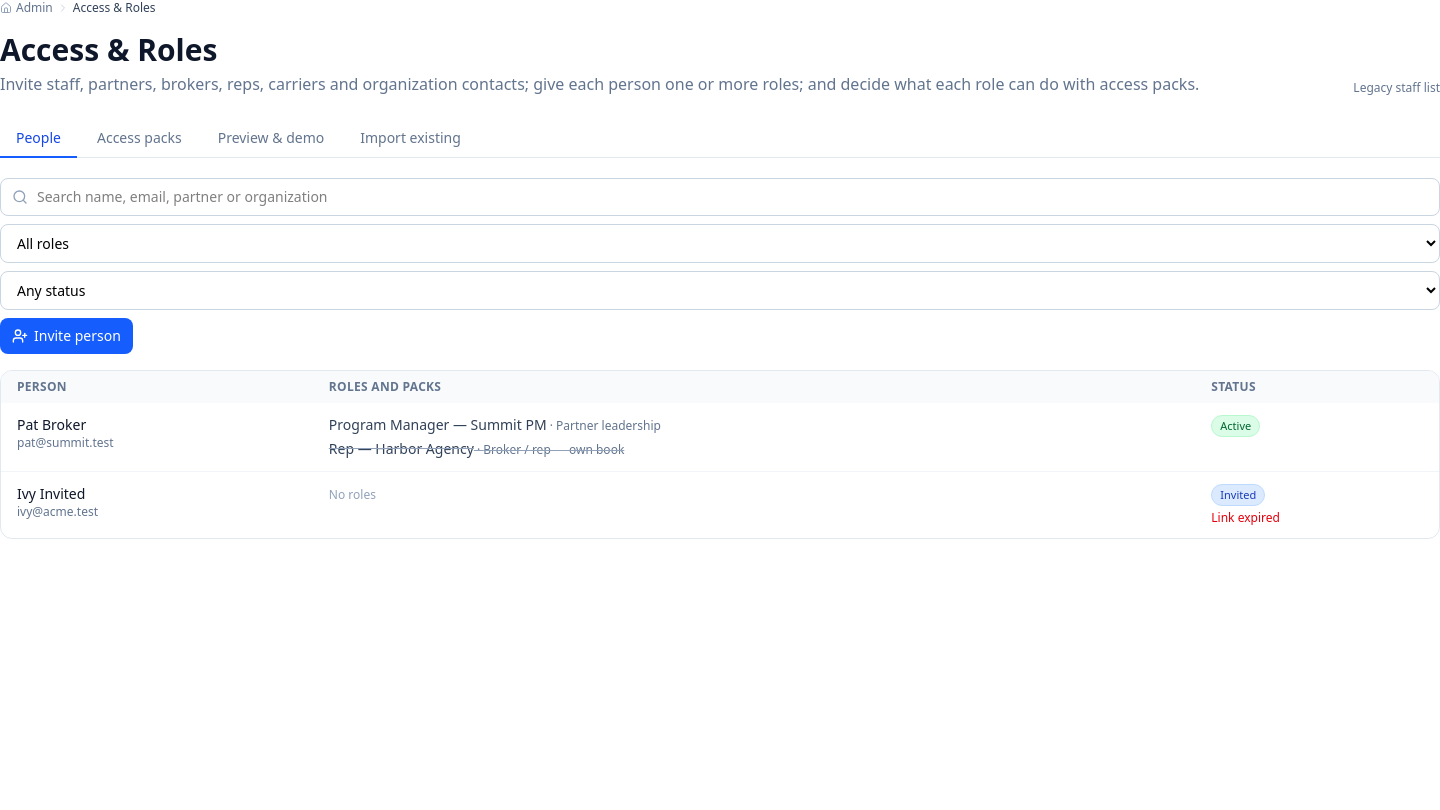
Test: Access & Roles › the invite form starts empty and adds roles
Step 1. Click the button "Invite person" → click(66, 336), box [0, 318, 133, 354]
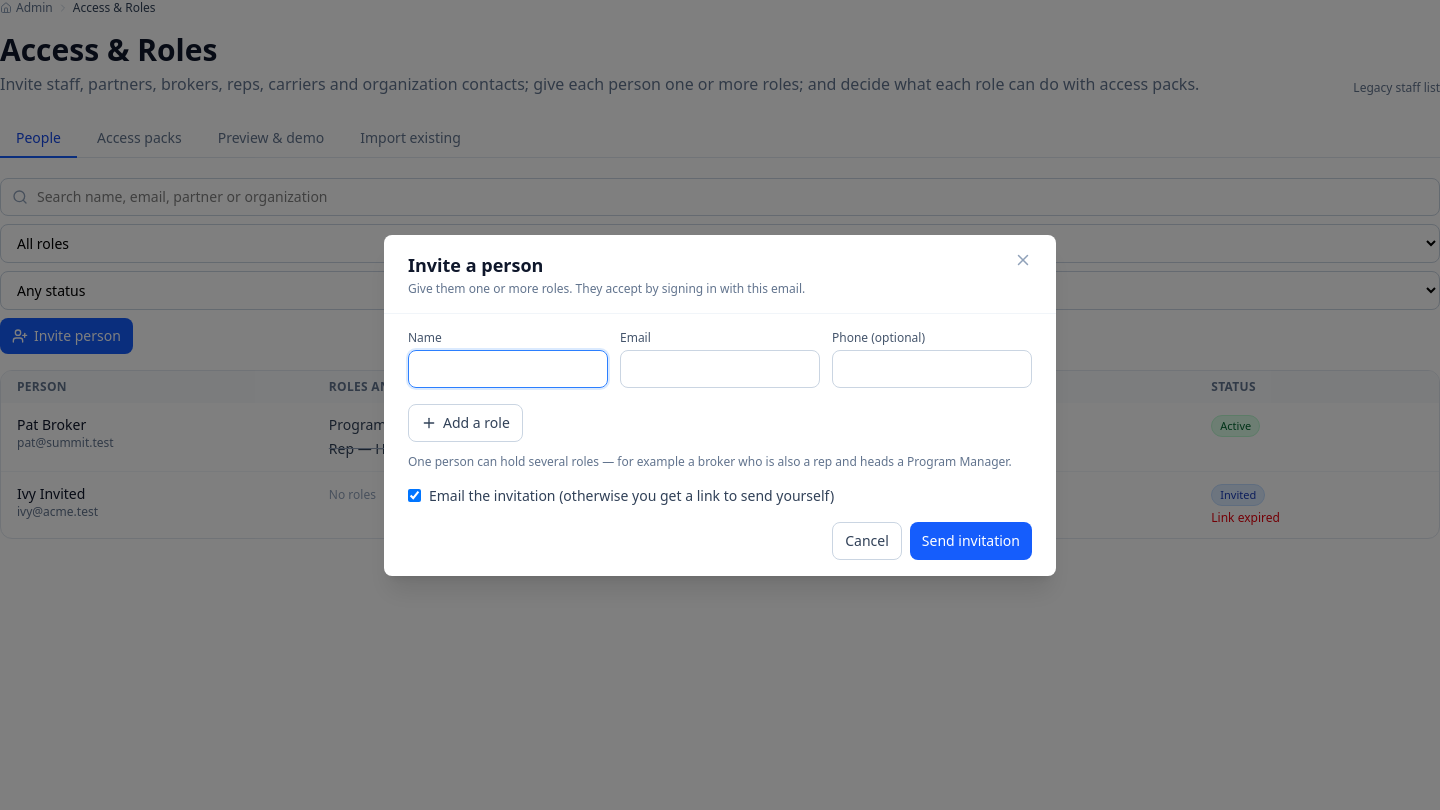
Step 2. Click the button "Add a role" → click(465, 422), box [408, 404, 523, 442]
(page scrolled)
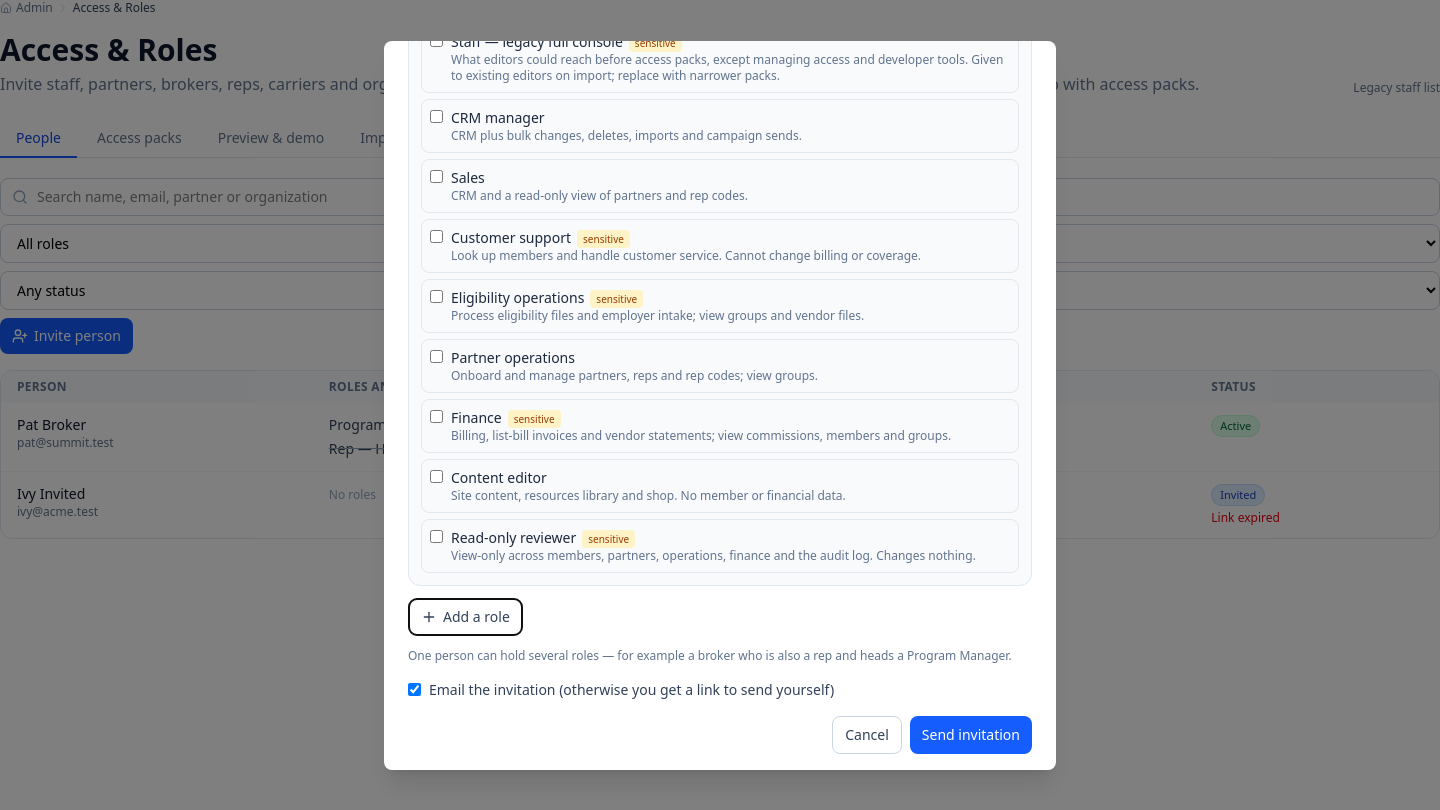
Step 3. Click the button "Add a role" → click(465, 616), box [408, 598, 523, 636]
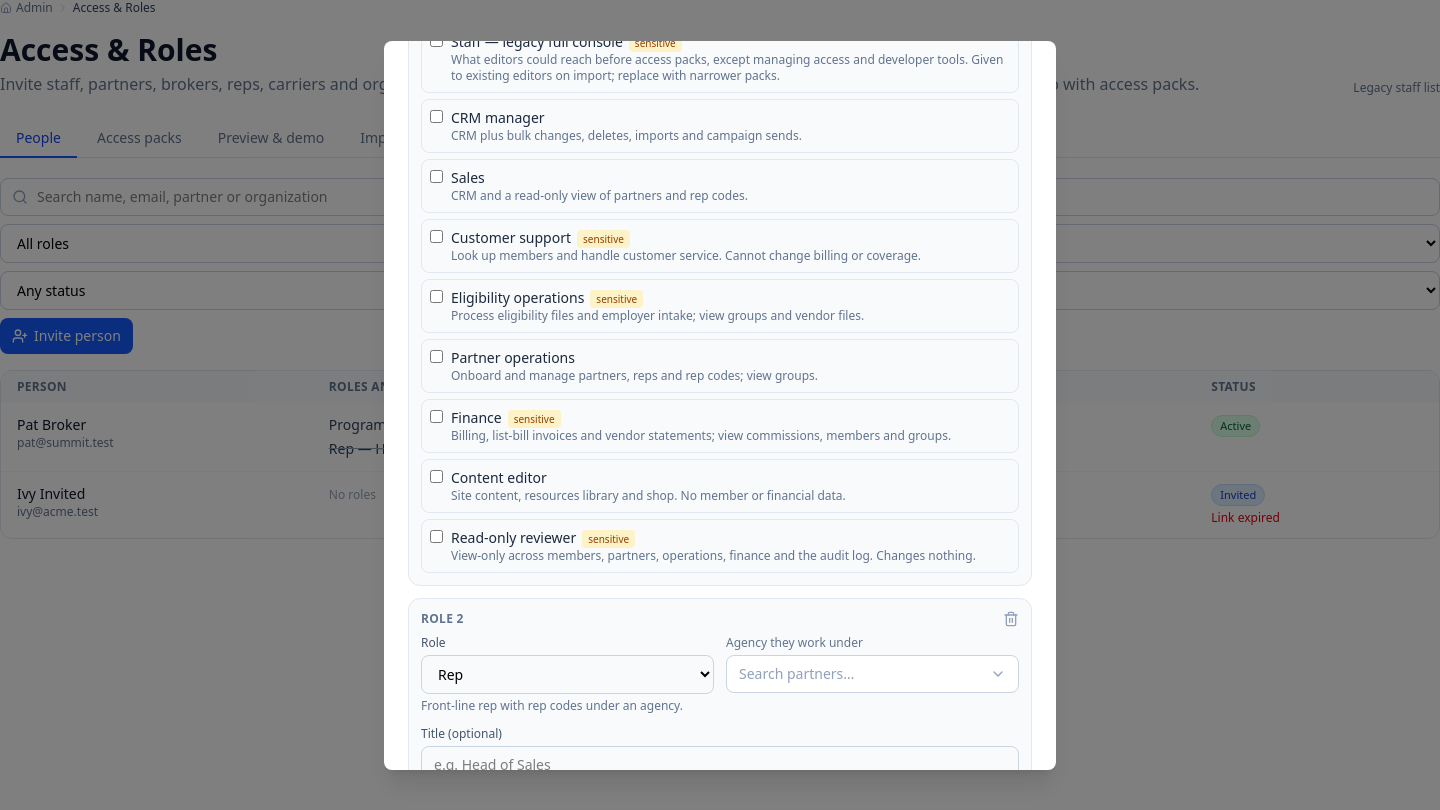
Now the text "Role 2" is shown, box [421, 610, 464, 626]
